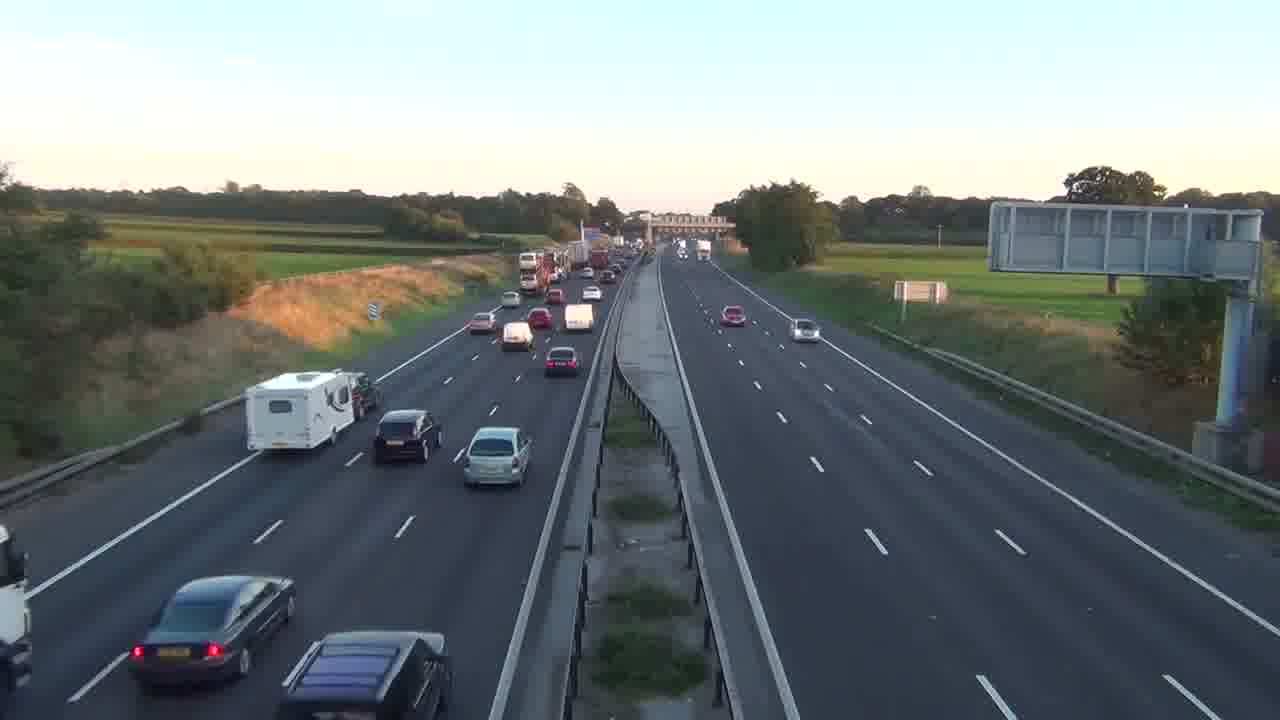car: (128, 573, 298, 693), (272, 627, 453, 718), (459, 426, 533, 487), (372, 407, 442, 463), (544, 346, 579, 377), (790, 317, 821, 342)
truck: (244, 369, 356, 452), (0, 523, 34, 698)
